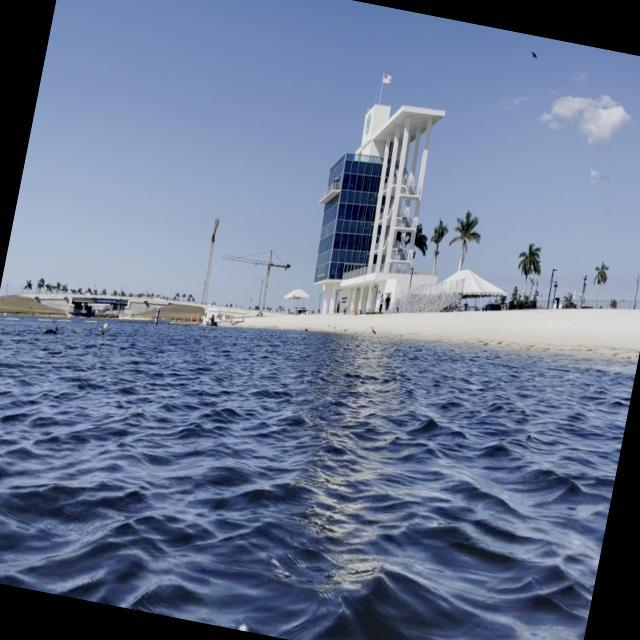buoy: (101, 319, 110, 332)
